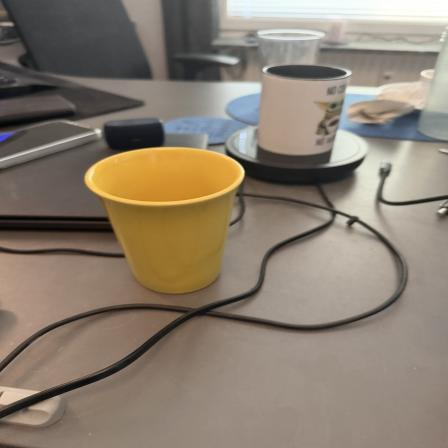phone: (0, 122, 104, 166), (0, 96, 87, 119)
yellow_cup: (84, 146, 245, 297)
